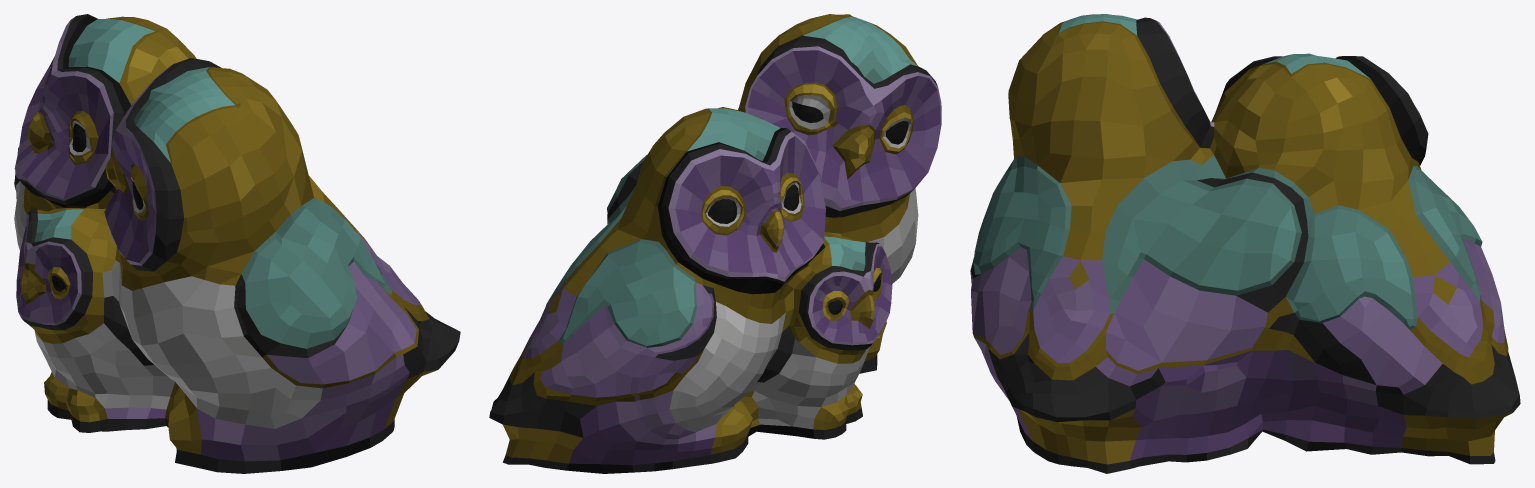
File: low_poly_owl_family_home_decoration.glb
3 views of the same model, side by side, from view 1: azimuth 30°, elevation 25°; view 2: azimuth 150°, elevation 25°; view 3: azimuth 270°, elevation 25° (orthographic). The views are drawn at different scales.
Visible parts, largest first — view 1: Box001; view 2: Box001; view 3: Box001.
Part boxes in pixels (box(x1,y1,x2,y2)): Box001: box(14, 14, 460, 473); Box001: box(489, 14, 941, 473); Box001: box(970, 14, 1520, 473).
Bounding box in the file's own units: 0.7992 × 0.8276 × 1.13.
Materials: 1 (1 with a texture image).
